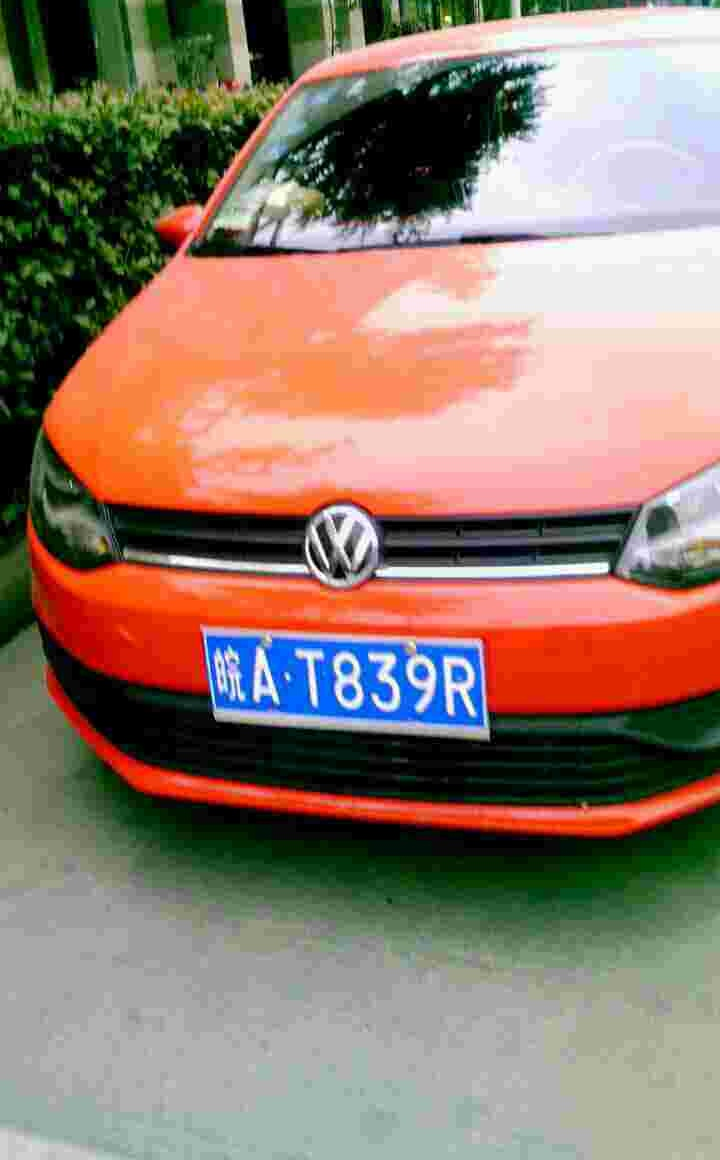license_plate: (217, 637, 486, 733)
